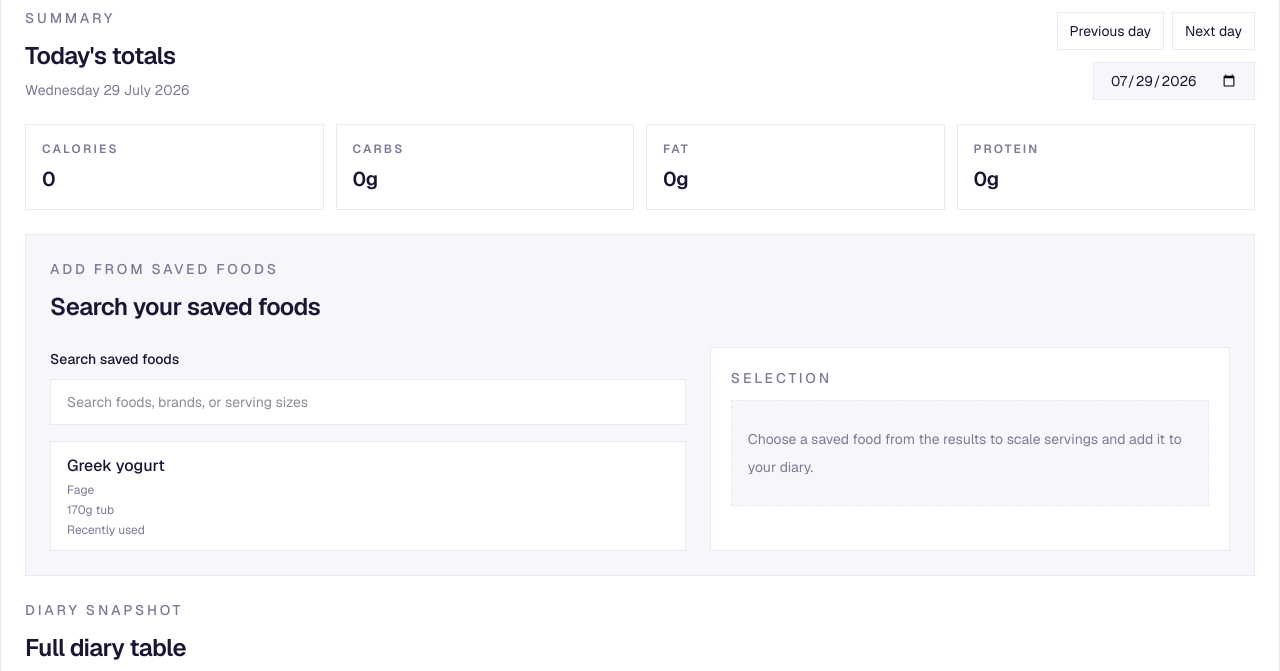
Test case: DiaryPage › adds a saved food to the diary using scaled portions
Click the button "Greek yogurt Fage 170g tub Recently used" at (116, 466), box x1=51 y1=442 x2=685 y2=550
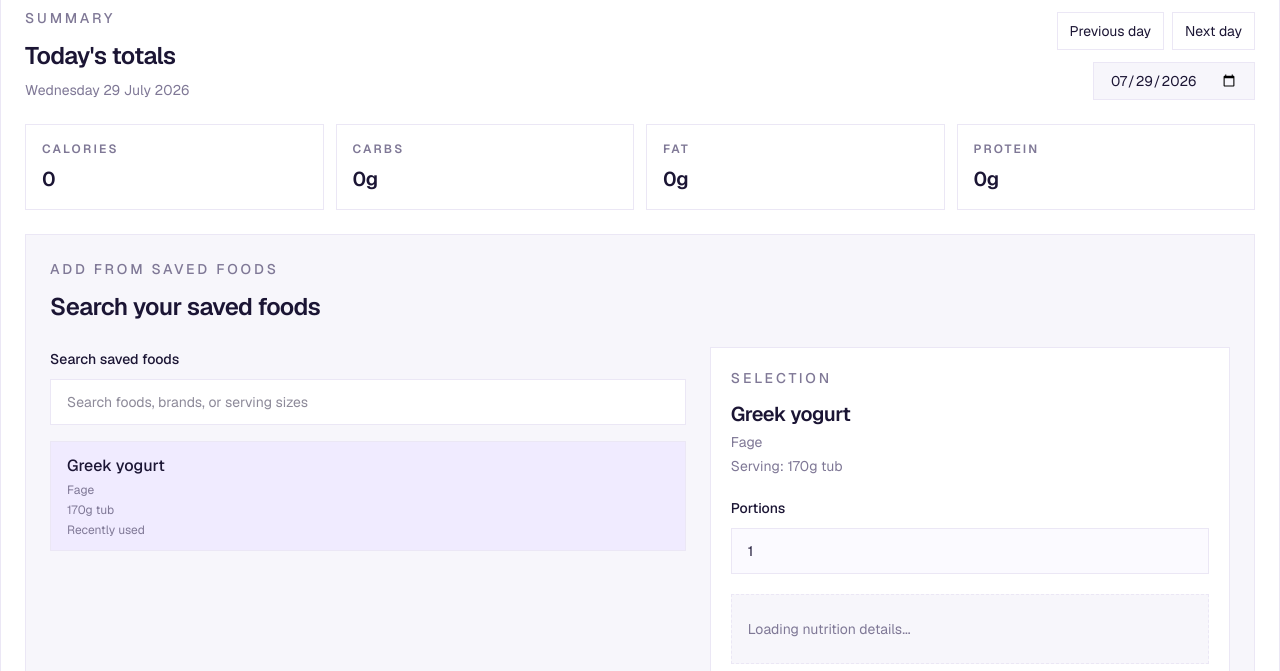
Replace the text in the number field labelled "Portions" with "1.5" at (970, 551), box x1=731 y1=528 x2=1209 y2=574
(page scrolled)
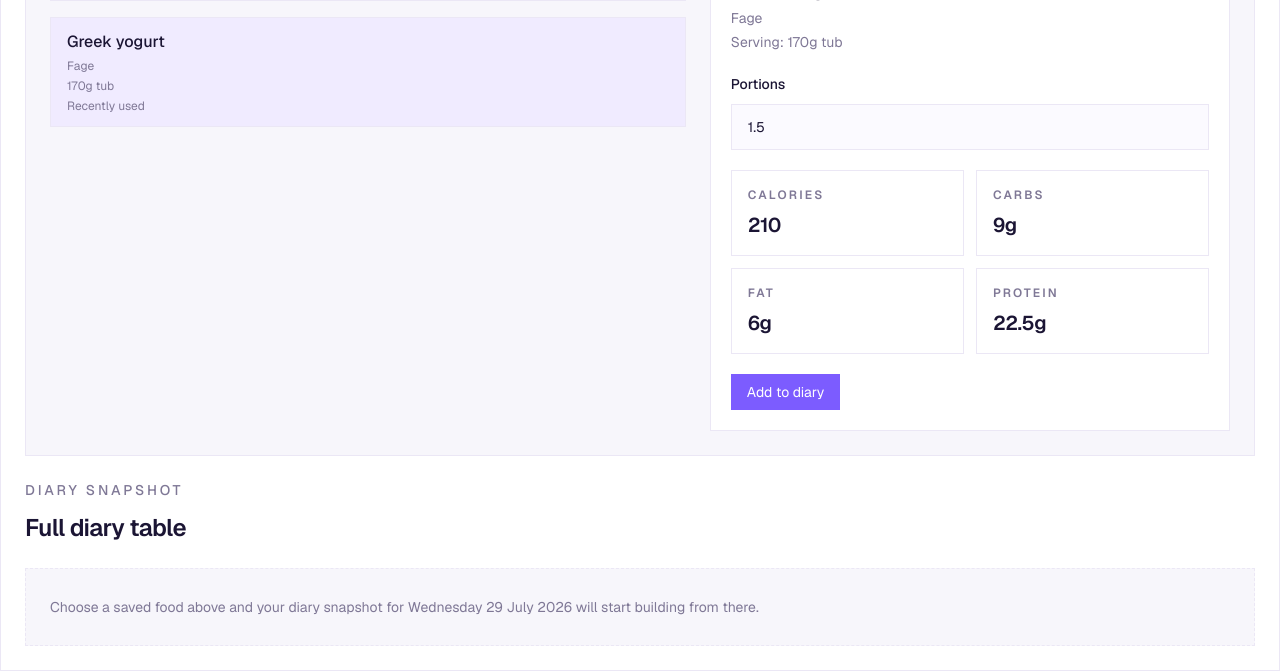
Check: the text "210" is shown, box x1=748 y1=212 x2=781 y2=238
Check: the text "9g" is shown, box x1=993 y1=212 x2=1017 y2=238
Check: the text "6g" is shown, box x1=748 y1=310 x2=772 y2=336
Click the button "Add to diary" at (786, 392), box x1=731 y1=374 x2=840 y2=410
(page scrolled)
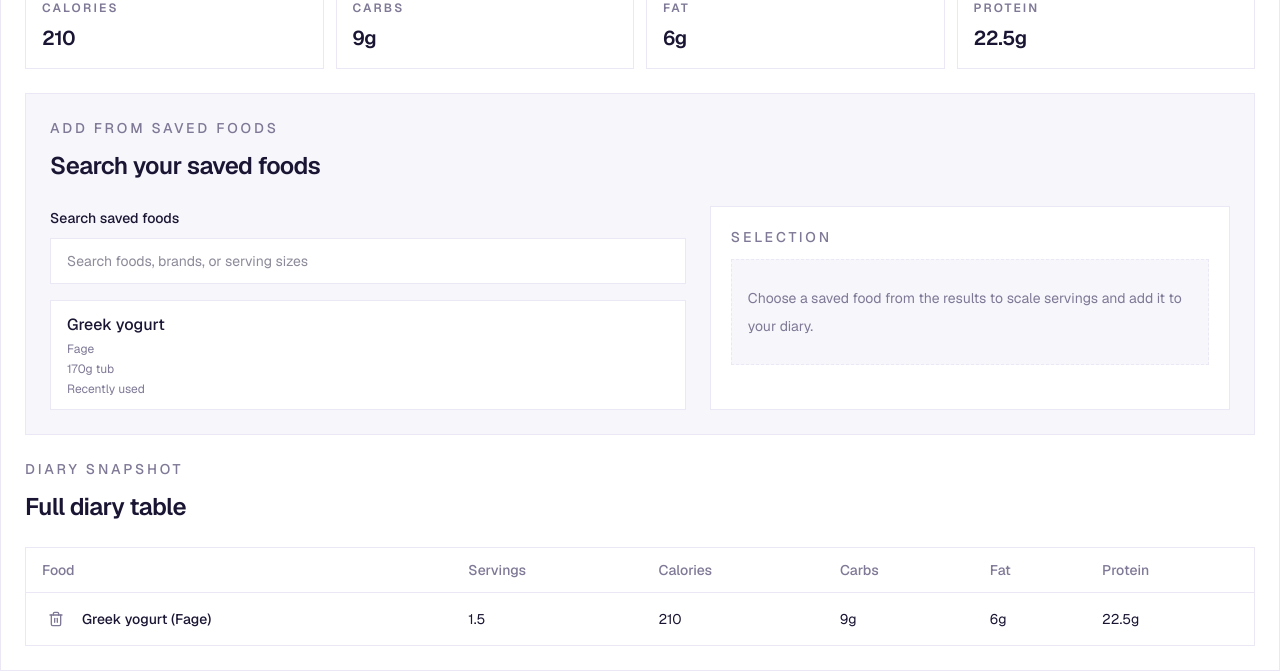
Check: the text "Choose a saved food from the results to scale servings and add it to your diary." is shown, box x1=731 y1=259 x2=1209 y2=365
Check: the text "Greek yogurt (Fage)" is shown, box x1=82 y1=609 x2=211 y2=629
Check: the text "1.5" is shown, box x1=452 y1=592 x2=643 y2=645
